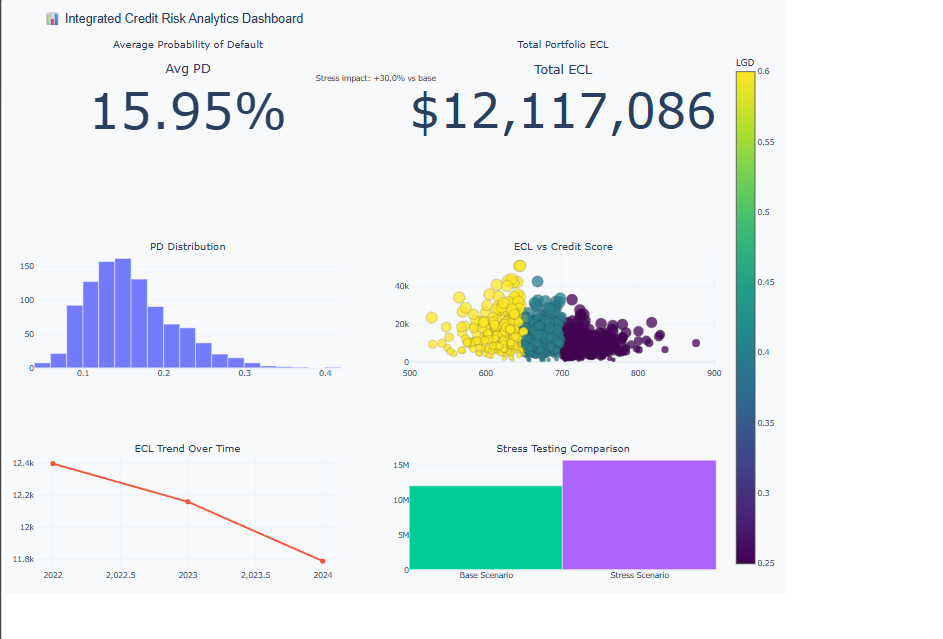

Layout of this report page (visuals, bound fields, positions):
{"tool":"powerbi","page":{"name":"Page 2","canvas":[1280,720],"ordinal":0},"visuals":[{"type":"donutChart","title":"Borrower Distribution by Risk","fields":{"Category":["credit_portfolio.PD_Bucket"],"Y":["credit_portfolio.Borrower_Count"]},"box":[905.5,423.3,363.2,268.7],"z":0},{"type":"advancedSlicerVisual","fields":{"Values":["credit_portfolio.Year"]},"box":[202.5,154.6,131.3,238],"z":1000},{"type":"advancedSlicerVisual","title":"Risk","fields":{"Values":["credit_portfolio.PD_Bucket"]},"box":[19.6,154.6,182.8,238],"z":2000},{"type":"scatterChart","title":"ECL VS Credit Score","fields":{"X":["credit_portfolio.Credit_Score"],"Y":["credit_portfolio.ECL"],"Series":["credit_portfolio.PD_Bucket"],"Size":["Sum(credit_portfolio.Loan_Amount)"]},"box":[11.1,423,333.9,282.4],"z":3000},{"type":"columnChart","title":"Borrower Count ","fields":{"Category":["credit_portfolio.PD (bins)"],"Y":["credit_portfolio.Borrower_Count"]},"box":[905.5,165.6,363.2,227],"z":4000},{"type":"lineChart","fields":{"Category":["credit_portfolio.Year"],"Y":["credit_portfolio.Total_ECL"]},"box":[642.9,516.6,228.2,175.5],"z":5000},{"type":"clusteredColumnChart","title":"Stress Testing Comparision","fields":{"Y":["credit_portfolio.Total_ECL","Sum(credit_portfolio.ECL_Stress)"]},"box":[371.8,516.6,244.2,175.5],"z":6000},{"type":"card","fields":{"Values":["credit_portfolio.Average_PD"]},"box":[363.1,165.6,253.2,122.4],"z":7000},{"type":"card","fields":{"Values":["credit_portfolio.Total_ECL"]},"box":[915.3,29.4,364.4,114.1],"z":8000},{"type":"card","fields":{"Values":["credit_portfolio.Capital_Impact"]},"box":[621.9,165.6,258.8,122.4],"z":9000},{"type":"textbox","box":[363.1,11.1,521,150],"z":10000},{"type":"card","fields":{"Values":["credit_portfolio.Stressed_ECL"]},"box":[0,29.4,344.8,114.1],"z":11000},{"type":"tableEx","fields":{"Values":["credit_portfolio.PD_Bucket","credit_portfolio.Credit_Score","Sum(credit_portfolio.PD)","Sum(credit_portfolio.LGD)","Sum(credit_portfolio.ECL)"]},"box":[363.2,305.5,521.5,173],"z":12000}]}

Visuals, with their boxes on the page's 1280x720 design canvas (x1, y1, x2, y2). These are canvas units, not pixel positions in the 943x639 screenshot, which may show the page scaled, cropped or inside an application window:
"Borrower Distribution by Risk" donutChart: [left=906, top=423, right=1269, bottom=692]
advancedSlicerVisual - credit_portfolio.Year: [left=202, top=155, right=334, bottom=393]
"Risk" advancedSlicerVisual: [left=20, top=155, right=202, bottom=393]
"ECL VS Credit Score" scatterChart: [left=11, top=423, right=345, bottom=705]
"Borrower Count " columnChart: [left=906, top=166, right=1269, bottom=393]
lineChart - credit_portfolio.Year x credit_portfolio.Total_ECL: [left=643, top=517, right=871, bottom=692]
"Stress Testing Comparision" clusteredColumnChart: [left=372, top=517, right=616, bottom=692]
card - credit_portfolio.Average_PD: [left=363, top=166, right=616, bottom=288]
card - credit_portfolio.Total_ECL: [left=915, top=29, right=1280, bottom=144]
card - credit_portfolio.Capital_Impact: [left=622, top=166, right=881, bottom=288]
textbox: [left=363, top=11, right=884, bottom=161]
card - credit_portfolio.Stressed_ECL: [left=0, top=29, right=345, bottom=144]
tableEx - credit_portfolio.PD_Bucket x credit_portfolio.Credit_Score: [left=363, top=306, right=885, bottom=478]
